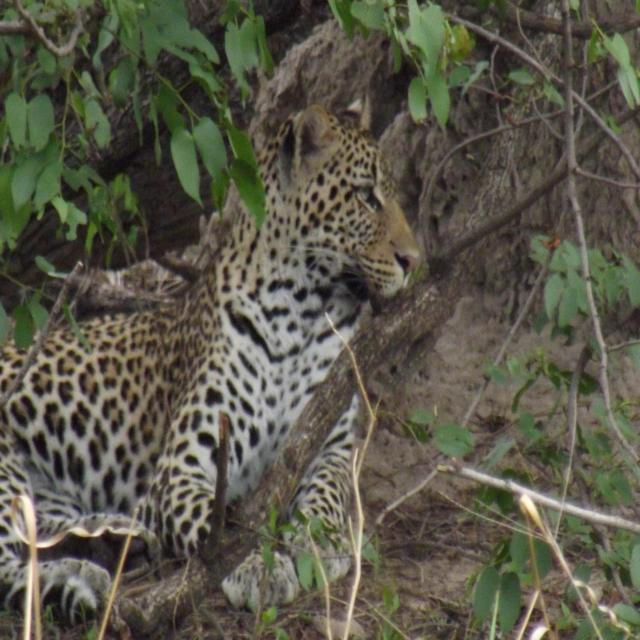Leopard: (3, 124, 409, 630)
